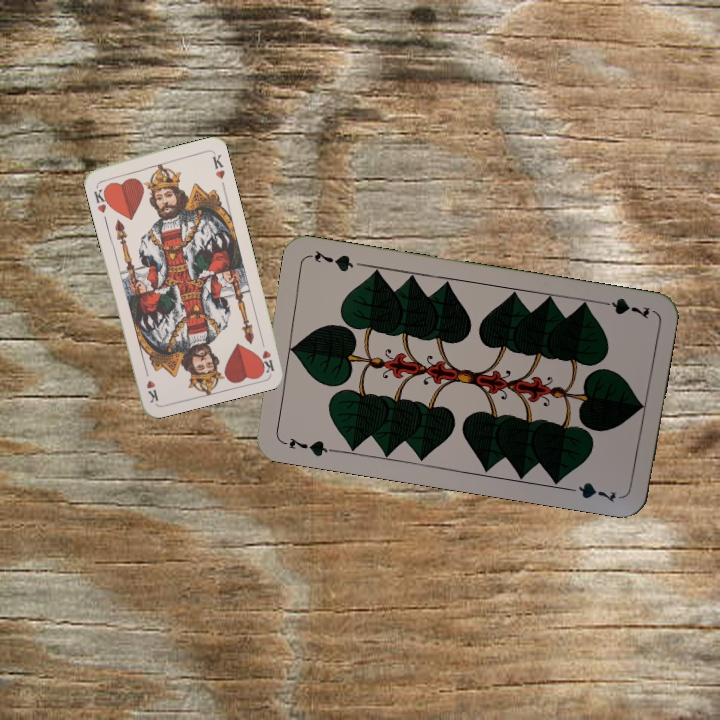G7: (594, 293, 653, 322), (277, 433, 336, 459)
HK: (255, 333, 277, 375), (90, 181, 113, 215)
